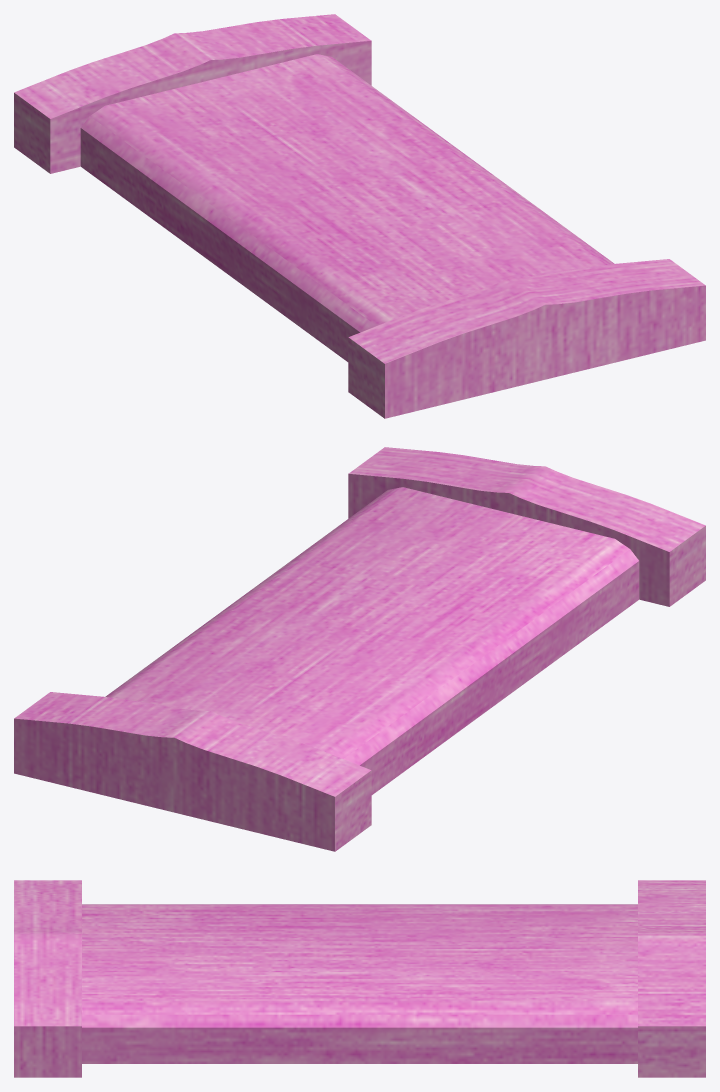
File: bed.FBX
The picture shows the model from 3 angles, top to bottom: view 1: azimuth 30°, elevation 25°; view 2: azimuth 150°, elevation 25°; view 3: azimuth 270°, elevation 25°; orthographic projection. The views are drawn at different scales.
Parts seen in each view (by area): view 1: bed; view 2: bed; view 3: bed.
Part boxes in pixels (<box>): bed: <box>14,14,705,418</box>; bed: <box>14,447,705,851</box>; bed: <box>14,880,705,1077</box>.
Bounding box in the file's own units: 100 × 22.29 × 200.
